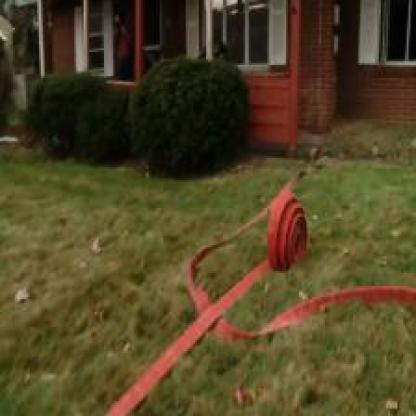other: (256, 188, 315, 271), (259, 77, 299, 156)
